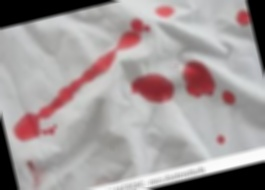blood: (1, 54, 126, 144), (128, 69, 177, 108), (180, 58, 216, 101), (110, 19, 149, 53), (233, 8, 251, 28), (220, 89, 238, 107), (156, 4, 175, 19), (216, 134, 227, 145)
